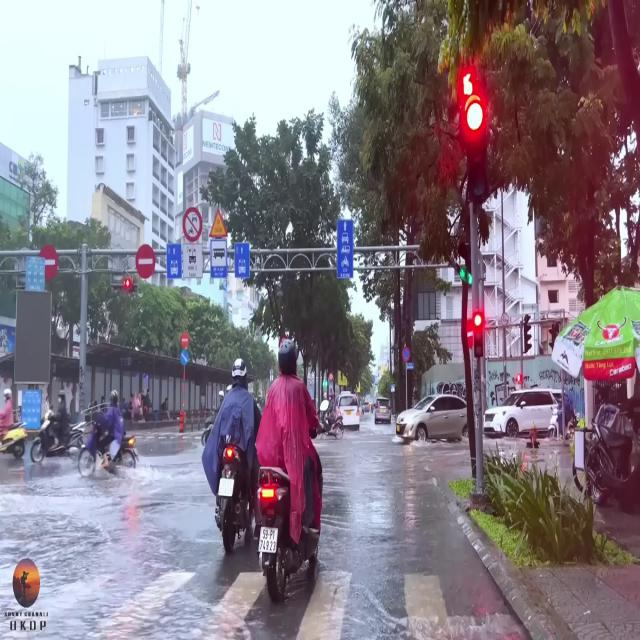bien_trang: (259, 524, 279, 557)
